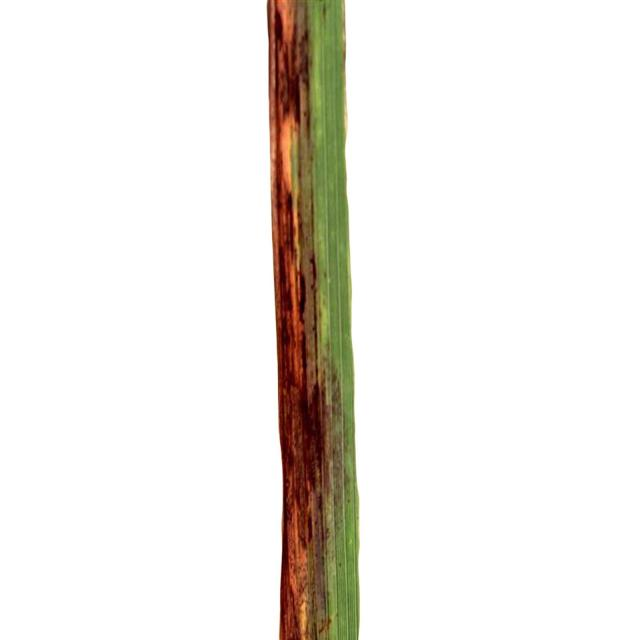Leaf scald: (172, 1, 502, 640)
